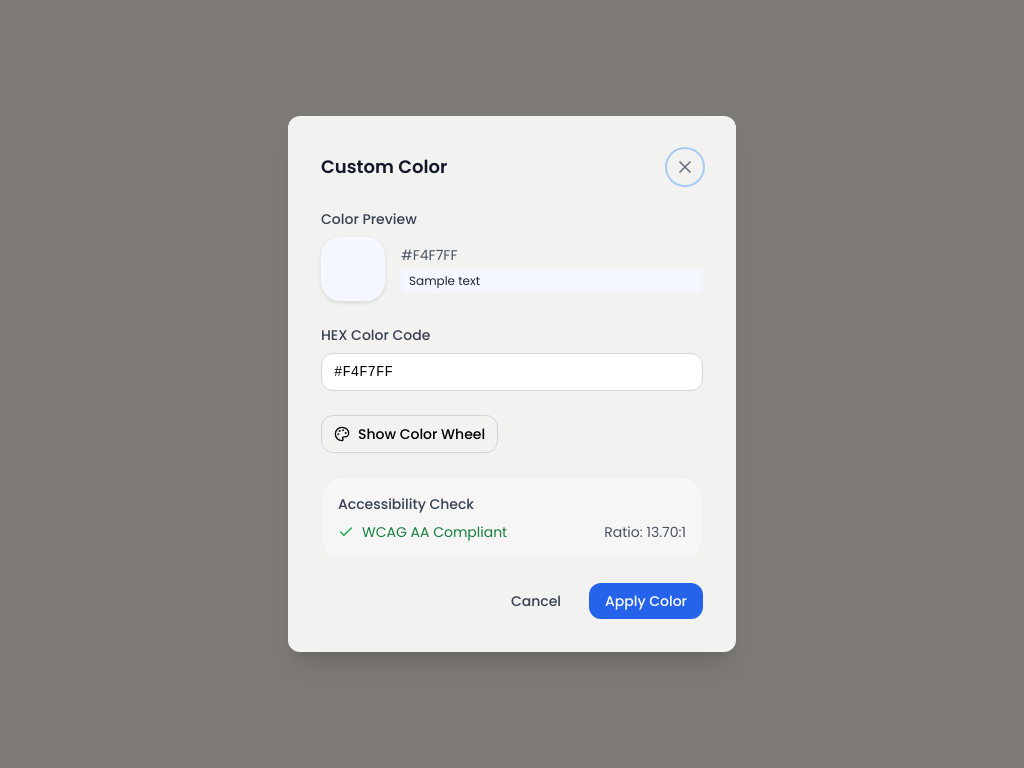
AdvancedColorModal › validates HEX color input
Note: Test invalid color
Replace the text in the field with test id "hex-input" with "invalid" at [512, 372], box [321,353,703,391]
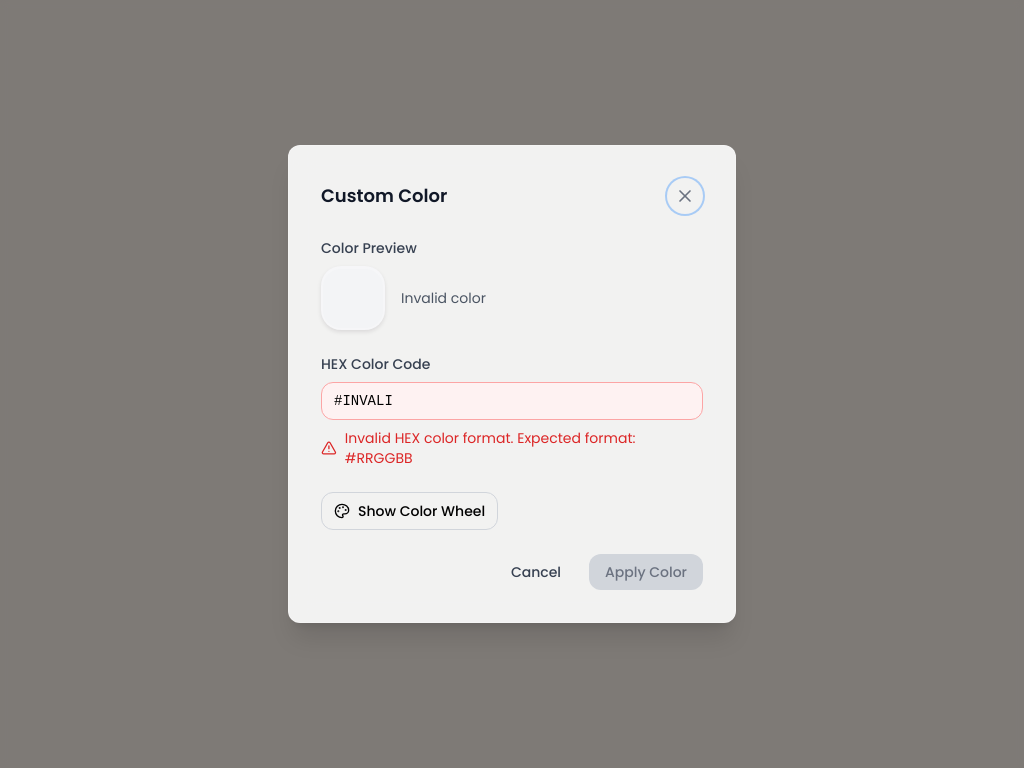
expect the text "Invalid HEX color format. Expected format: #RRGGBB" is shown: met, box [345,428,635,468]
Note: Test valid color
Replace the text in the field with test id "hex-input" with "#00FF00" at [512, 401], box [321,382,703,420]
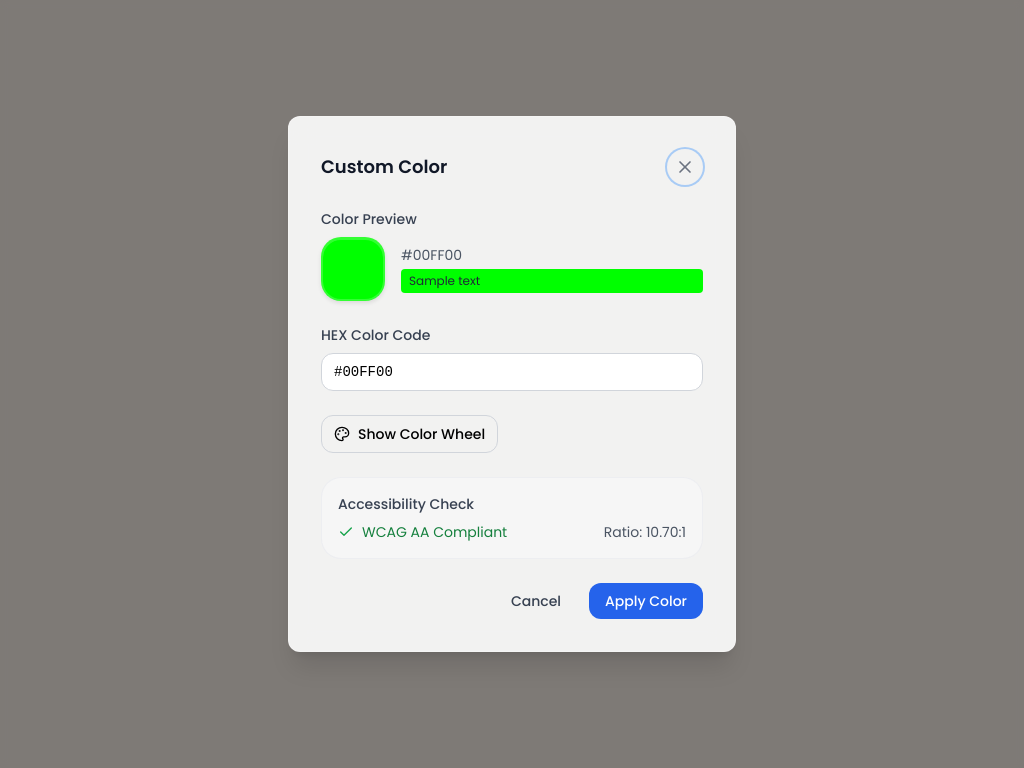
expect the text with test id "validation-error" is gone: met
